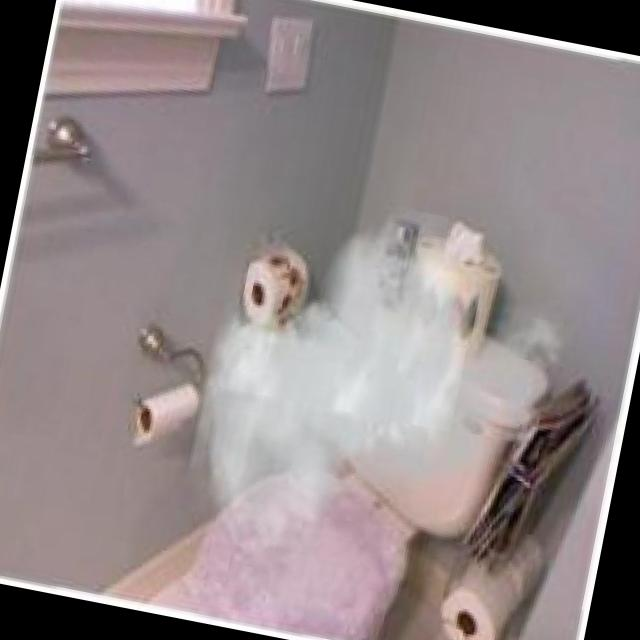Smoke: (176, 178, 594, 602)
